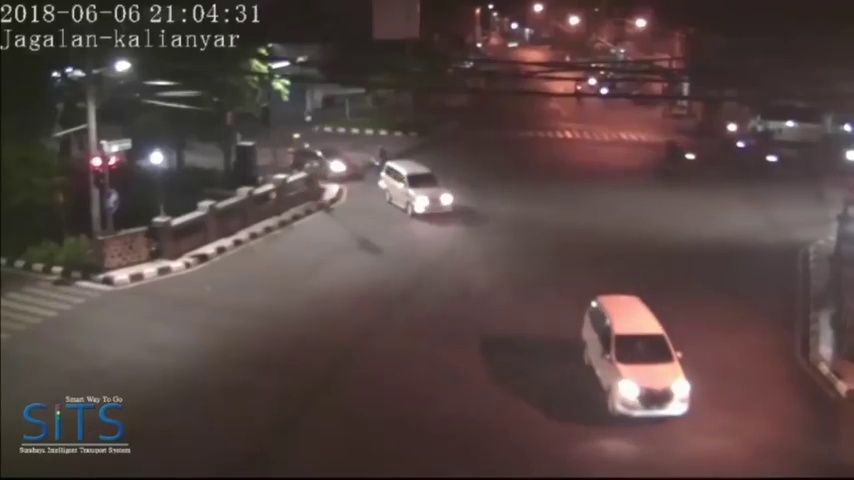car: (585, 295, 695, 420), (380, 159, 454, 219), (289, 143, 359, 182)
